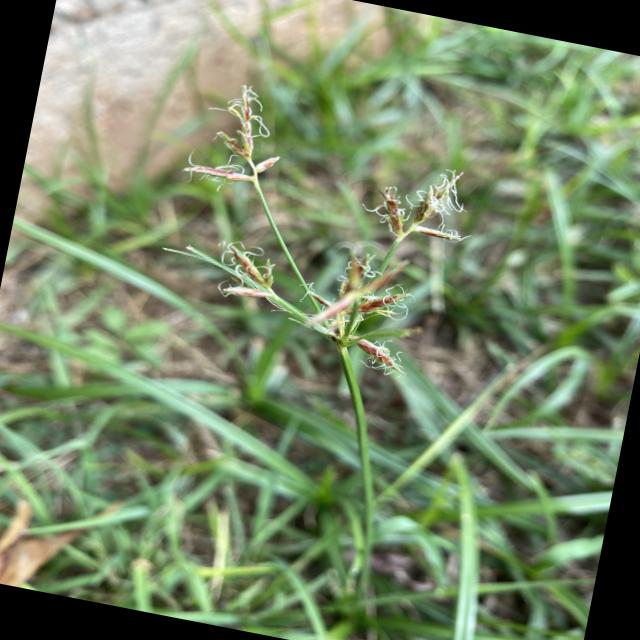cyperus: (134, 66, 488, 395)
